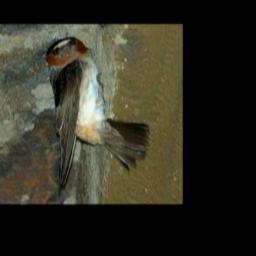Swallow: (45, 36, 150, 194)
